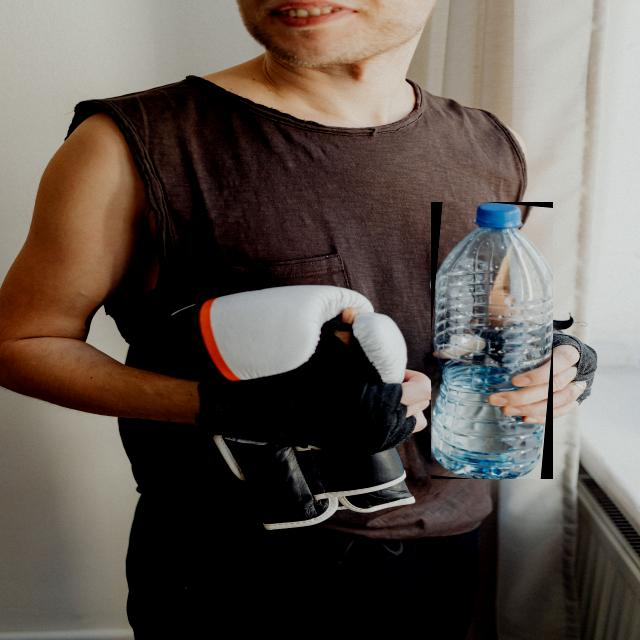Bottle: (430, 203, 551, 478)
